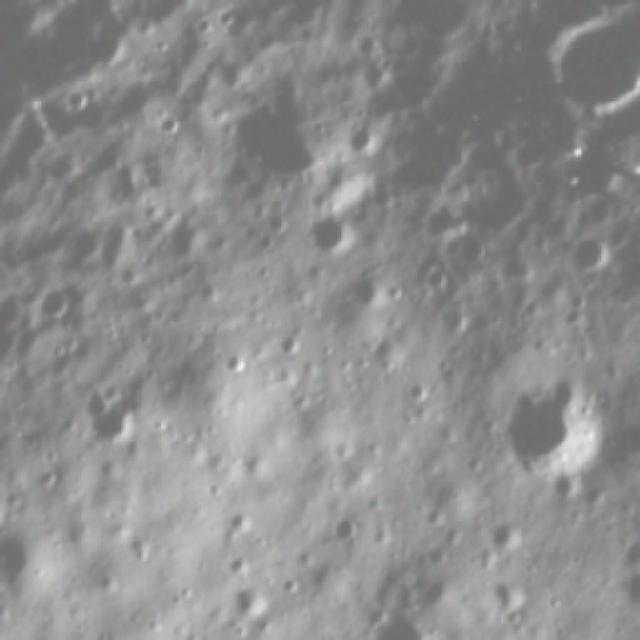crater: (221, 53, 342, 182), (532, 6, 640, 119), (66, 367, 162, 456), (502, 372, 582, 461), (289, 196, 368, 273), (465, 513, 537, 565), (564, 222, 619, 280), (362, 606, 447, 640), (314, 505, 366, 550)
